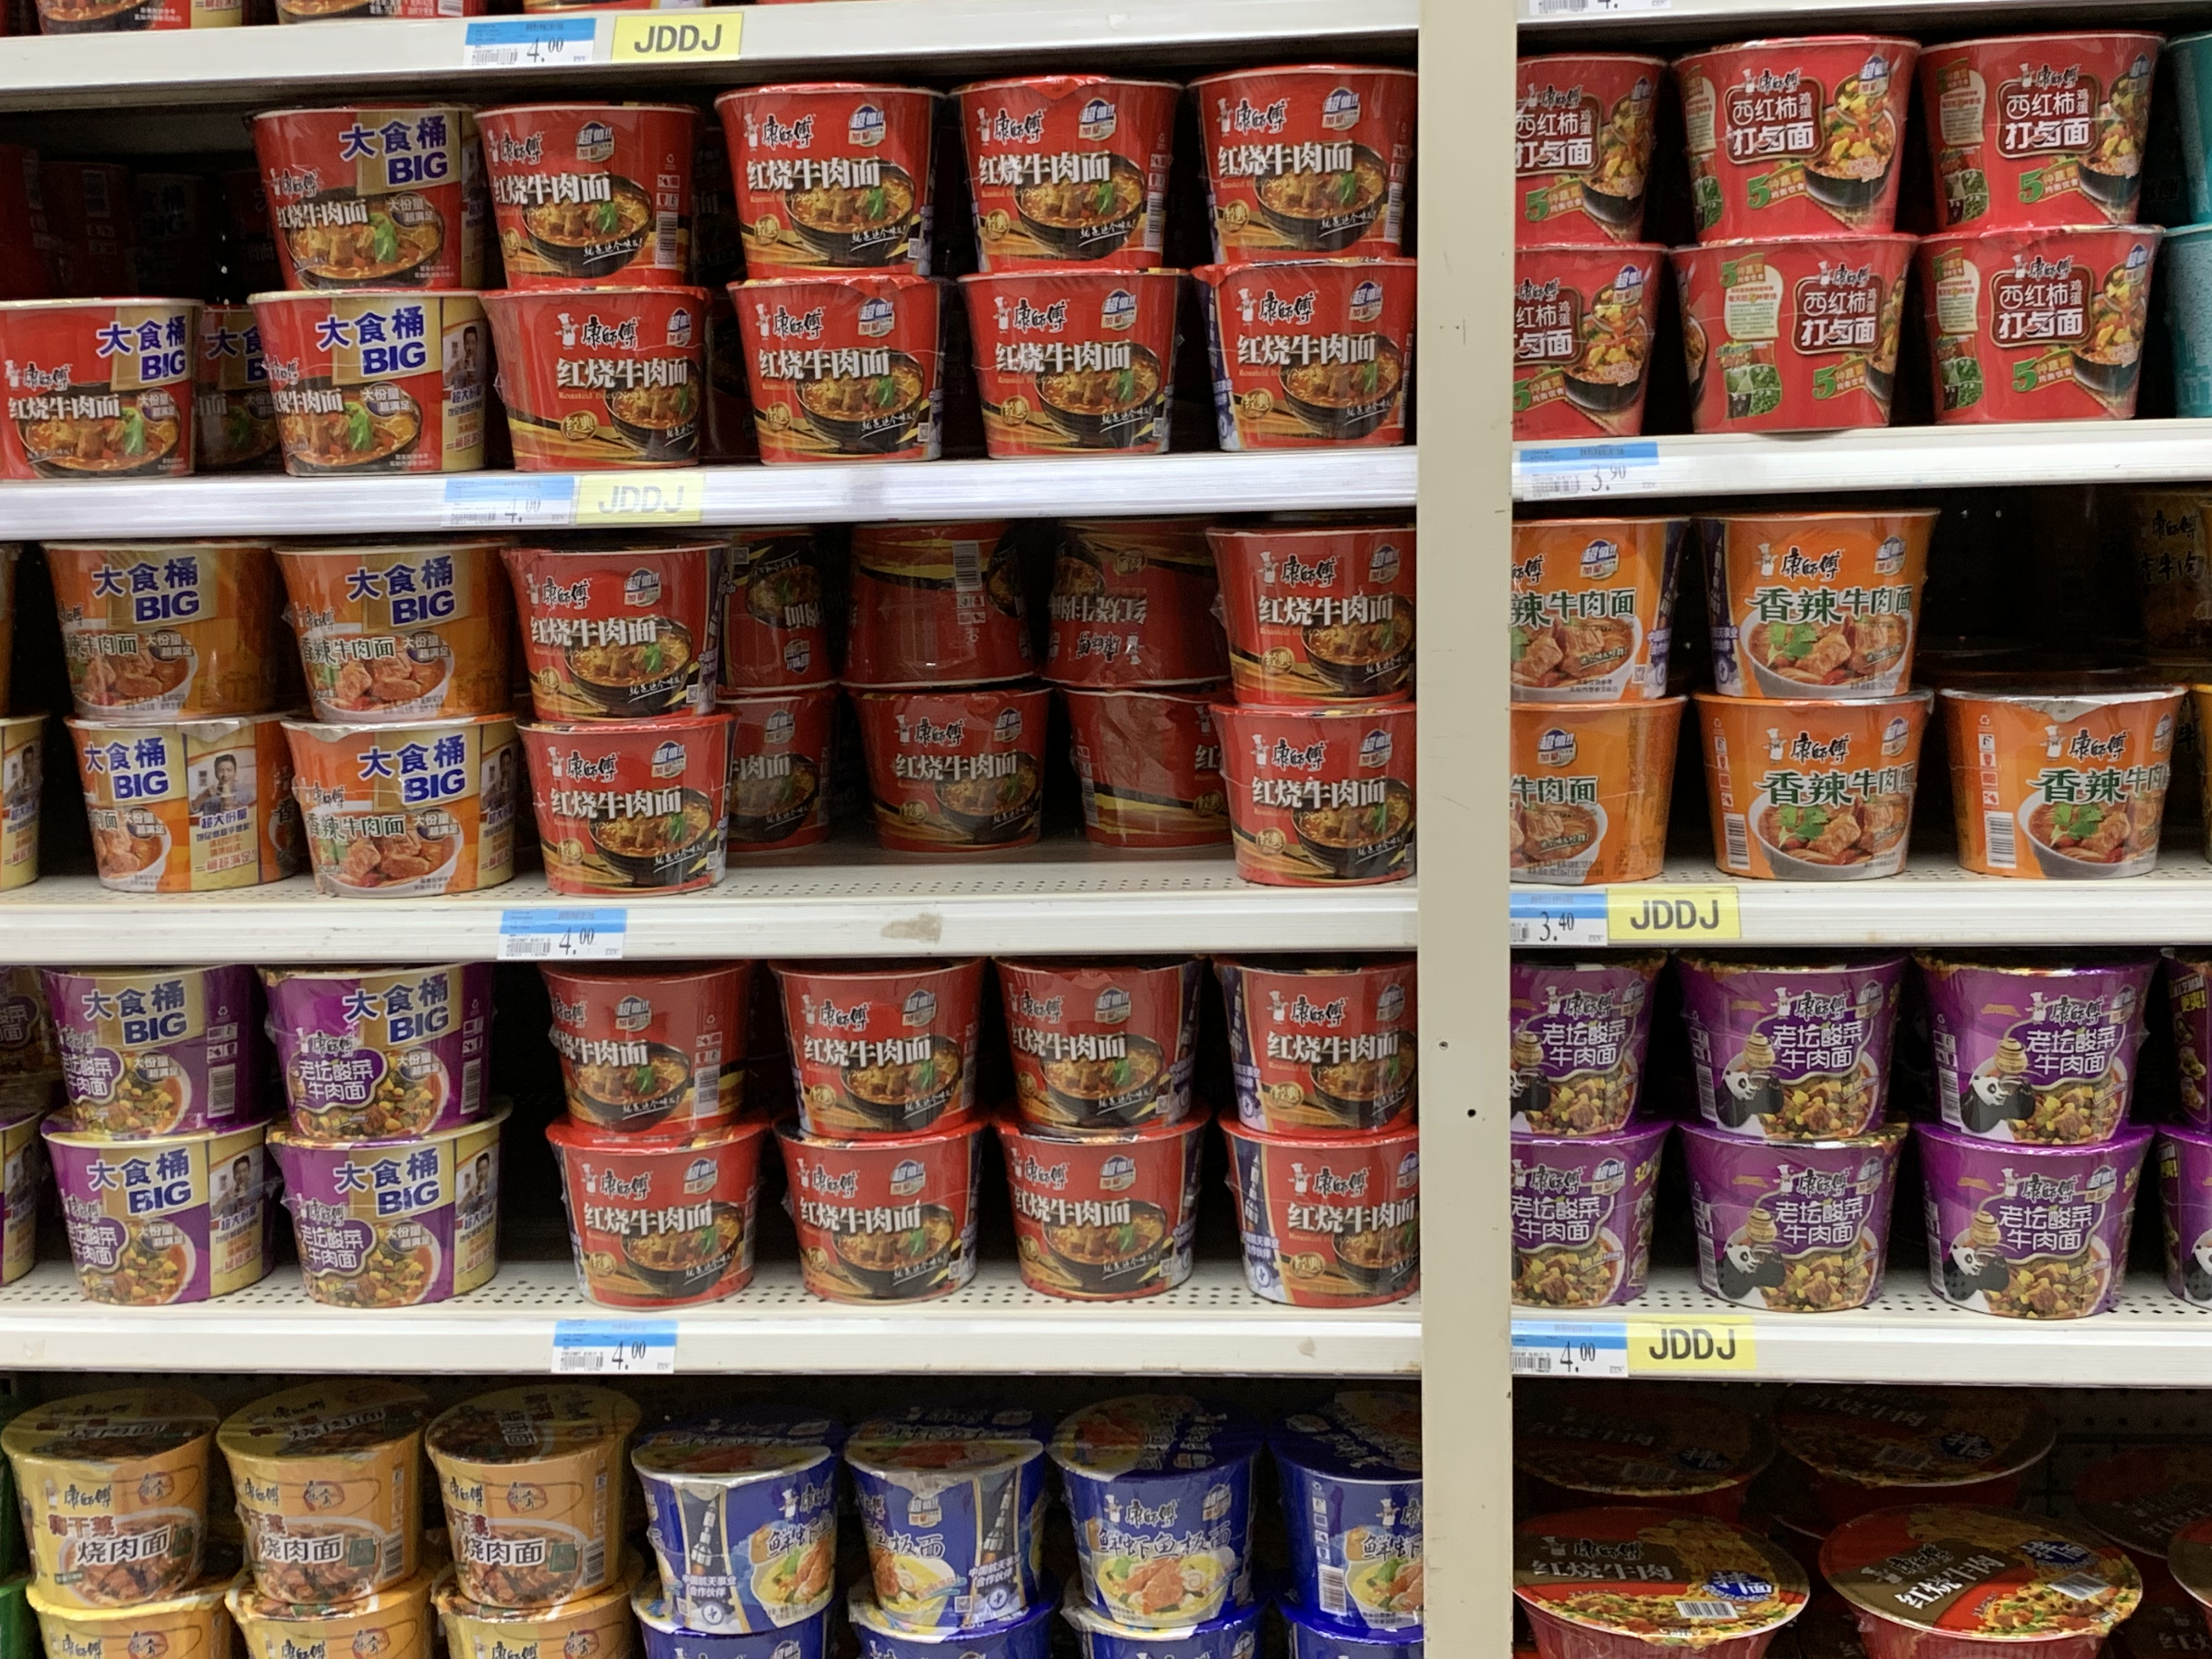xiangla: (1939, 671, 2191, 880), (1698, 505, 1946, 702), (38, 538, 275, 725), (273, 544, 512, 727), (1703, 699, 1935, 884), (277, 723, 516, 901), (64, 721, 282, 894), (1510, 511, 1695, 704), (1508, 702, 1689, 887)
